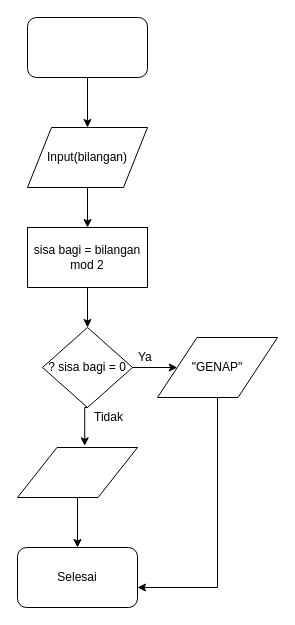
Image size: 295x625. Some labels were removed from this diagram. The centre of each missing label's shape, as x and y in pixels:
"GANJIL": pixel 77 472
Mulai: pixel 87 47
